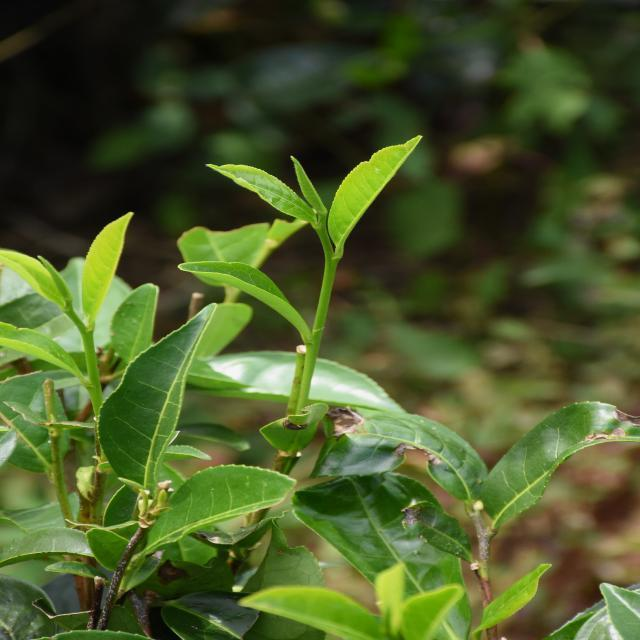Stem: (315, 225, 331, 242), (80, 330, 93, 347)
